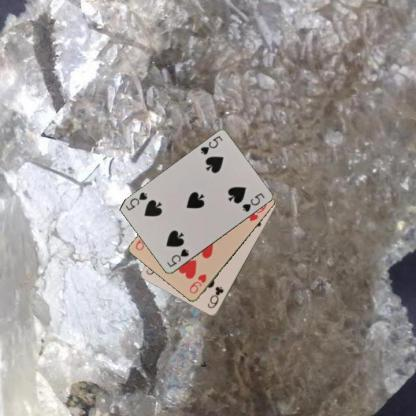5s: (164, 246, 190, 269), (198, 134, 224, 156)
6c: (205, 284, 225, 310)
9h: (186, 271, 208, 296)
